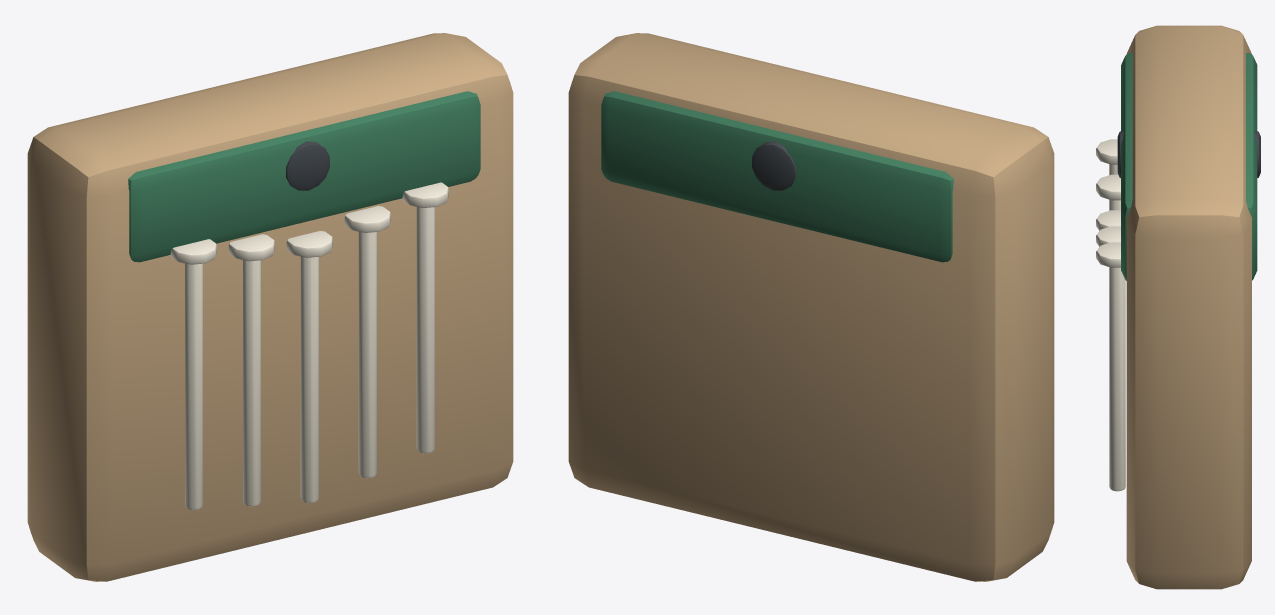
File: checkout_product_tee_pouch.glb
3 renders of one model, left to right at view 1: azimuth 30°, elevation 25°; view 2: azimuth 150°, elevation 25°; view 3: azimuth 270°, elevation 25°, orthographic. The views are drawn at different scales.
Parts seen in each view (by area): view 1: TeePouchBody, TeePouchHeader, VisibleTee_4, VisibleTee_5, VisibleTee_3, VisibleTee_2, VisibleTee_1, TeePouchHangHole, TeeCup_2, TeeCup_3, TeeCup_4, TeeCup_5 (+1 smaller); view 2: TeePouchBody, TeePouchHeader, TeePouchHangHole; view 3: TeePouchBody, TeePouchHeader, VisibleTee_5, TeeCup_2, TeeCup_5, TeeCup_1, TeeCup_4, TeeCup_3, TeePouchHangHole.
Part boxes in pixels (bbox=[...]): TeePouchBody: bbox=[27, 33, 513, 581]; TeePouchHeader: bbox=[128, 91, 480, 262]; VisibleTee_4: bbox=[358, 232, 376, 478]; VisibleTee_5: bbox=[416, 207, 434, 453]; VisibleTee_3: bbox=[300, 256, 318, 502]; VisibleTee_2: bbox=[243, 260, 260, 506]; VisibleTee_1: bbox=[185, 263, 202, 509]; TeePouchHangHole: bbox=[286, 141, 329, 190]; TeeCup_2: bbox=[228, 234, 274, 261]; TeeCup_3: bbox=[286, 231, 332, 257]; TeeCup_4: bbox=[344, 206, 390, 232]; TeeCup_5: bbox=[402, 182, 448, 207]; TeePouchBody: bbox=[568, 33, 1054, 581]; TeePouchHeader: bbox=[601, 91, 953, 262]; TeePouchHangHole: bbox=[752, 141, 795, 190]; TeePouchBody: bbox=[1126, 25, 1251, 589]; TeePouchHeader: bbox=[1121, 53, 1257, 280]; VisibleTee_5: bbox=[1109, 267, 1125, 491]; TeeCup_2: bbox=[1096, 174, 1120, 200]; TeeCup_5: bbox=[1096, 242, 1120, 267]; TeeCup_1: bbox=[1096, 139, 1117, 164]; TeeCup_4: bbox=[1096, 226, 1120, 246]; TeeCup_3: bbox=[1096, 210, 1120, 230]; TeePouchHangHole: bbox=[1117, 130, 1260, 177].
Bounding box in the file's own units: 0.13 × 0.12 × 0.046.
